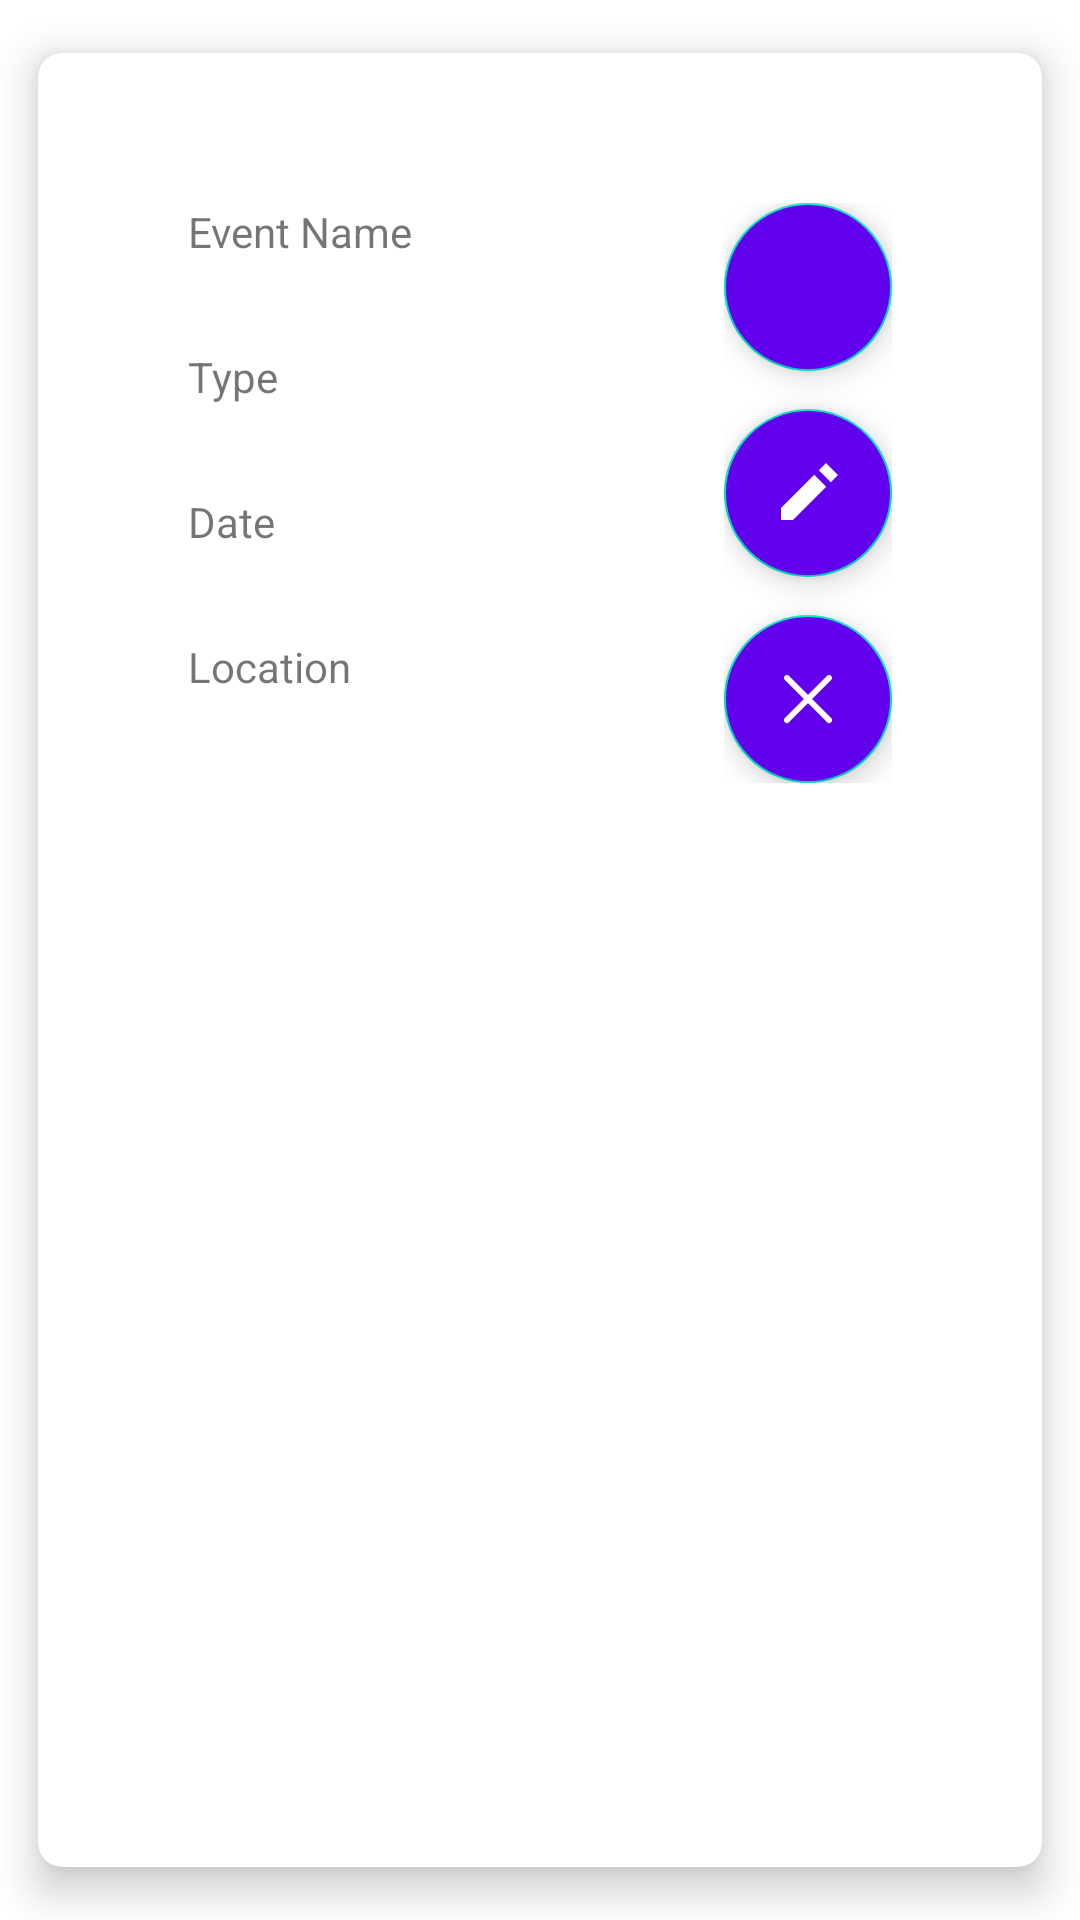

Locate icon controls on the screen. Image size 1080px×1920px, boxes as (x1, y1, x2, y2).
delete: (724, 615, 892, 783)
edit: (724, 409, 892, 577)
